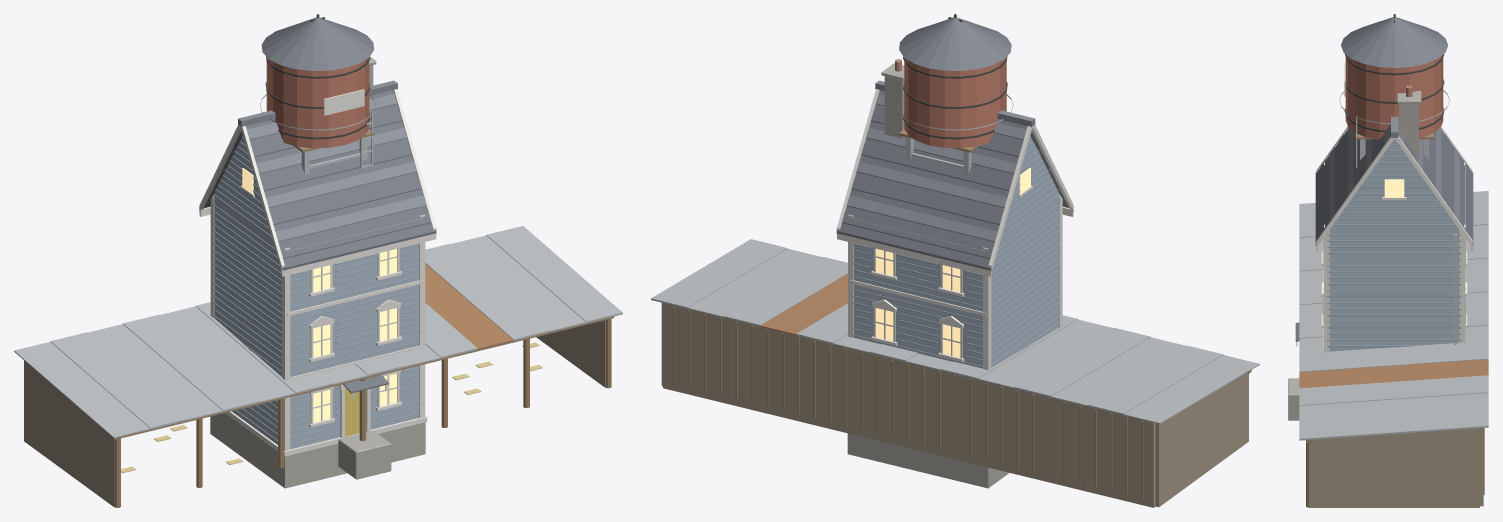
Rendered from neighbour_farm.glb.
3 views of the same model, side by side, from view 1: azimuth 30°, elevation 25°; view 2: azimuth 150°, elevation 25°; view 3: azimuth 270°, elevation 25° (orthographic). The views are drawn at different scales.
Parts seen in each view (by area): view 1: nf_house_mesh, nf_shed_mesh, nf_tower_mesh; view 2: nf_shed_mesh, nf_house_mesh, nf_tower_mesh; view 3: nf_shed_mesh, nf_house_mesh, nf_tower_mesh.
Boxes of the visible parts, left/top/right/bottom form: nf_house_mesh: left=199, top=56, right=436, bottom=488; nf_shed_mesh: left=14, top=226, right=622, bottom=507; nf_tower_mesh: left=260, top=14, right=375, bottom=174; nf_shed_mesh: left=651, top=239, right=1259, bottom=507; nf_house_mesh: left=836, top=59, right=1073, bottom=488; nf_tower_mesh: left=897, top=14, right=1013, bottom=174; nf_shed_mesh: left=1299, top=191, right=1488, bottom=507; nf_house_mesh: left=1288, top=85, right=1473, bottom=420; nf_tower_mesh: left=1339, top=14, right=1449, bottom=168.
Size of the model in its own units: 22.82 by 18.4 by 8.2.
